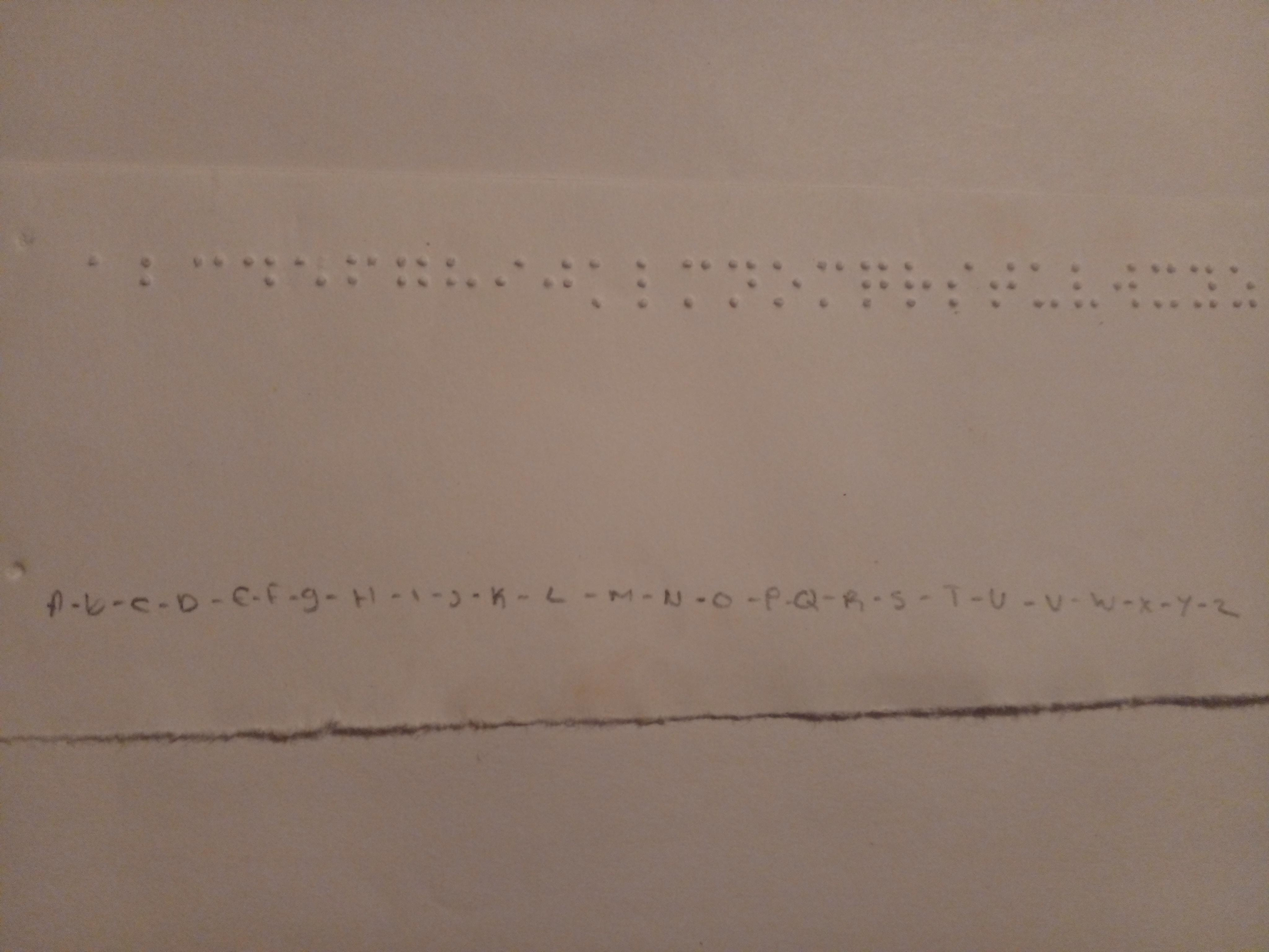a: (73, 243, 113, 294)
b: (121, 242, 169, 308)
c: (186, 239, 231, 310)
d: (239, 240, 282, 313)
e: (293, 240, 336, 313)
f: (344, 245, 389, 321)
g: (389, 240, 434, 325)
h: (440, 236, 483, 328)
i: (490, 242, 533, 330)
j: (542, 243, 587, 341)
k: (581, 245, 615, 344)
l: (627, 237, 657, 342)
m: (669, 234, 720, 335)
n: (723, 245, 764, 335)
o: (768, 242, 807, 333)
p: (812, 242, 847, 324)
q: (855, 239, 895, 338)
r: (900, 246, 936, 342)
s: (942, 245, 979, 341)
t: (985, 248, 1025, 338)
u: (1025, 249, 1064, 344)
v: (1063, 251, 1104, 341)
w: (1109, 251, 1148, 330)
x: (1149, 253, 1183, 330)
y: (1183, 246, 1224, 332)
z: (1225, 248, 1266, 335)
